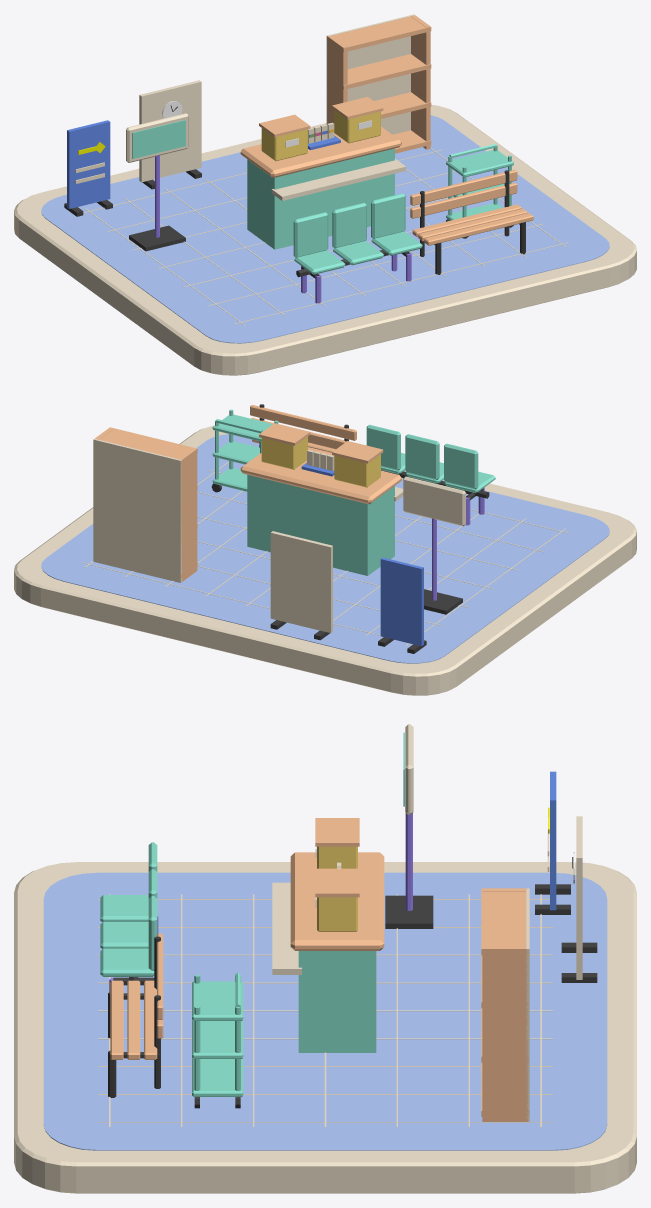
Rendered from room.fbx.
3 renders of one model, top to bottom at view 1: azimuth 30°, elevation 25°; view 2: azimuth 150°, elevation 25°; view 3: azimuth 270°, elevation 25°, orthographic. The views are drawn at different scales.
Visible parts, largest first — view 1: COM-02 Floor Surface, COM-01 Rounded Base Direct, Counter body, Panel.001, Panel, Back.003, Countertop, Side.001, Visitor shelf, Shelf.003, Shelf.002, Inset (+20 smaller); view 2: COM-02 Floor Surface, COM-01 Rounded Base Direct, Back.003, Counter body, Panel.001, Panel, Countertop, Sign panel, Side, Back, Back.001, Shelf.003 (+11 smaller); view 3: COM-02 Floor Surface, COM-01 Rounded Base Direct, Counter body, Side.001, Countertop, Shelf.003, Visitor shelf, Tray.002, Tray, Tray.001, Foot, Seat.002 (+14 smaller).
Boxes of the visible parts, x1,y1,x2,y2 form: COM-02 Floor Surface: (41,115,609,343); COM-01 Rounded Base Direct: (14,104,636,375); Counter body: (247,148,394,249); Panel.001: (139,80,201,182); Panel: (67,120,110,208); Back.003: (326,14,414,134); Countertop: (240,126,401,177); Side.001: (411,15,430,149); Visitor shelf: (271,159,406,200); Shelf.003: (327,16,431,52); Shelf.002: (329,54,431,89); Inset: (132,120,185,158); COM-02 Floor Surface: (41,434,609,663); COM-01 Rounded Base Direct: (14,425,636,695); Back.003: (93,438,181,582); Counter body: (247,474,394,575); Panel.001: (270,531,332,633); Panel: (380,557,423,646); Countertop: (240,453,401,504); Sign panel: (403,476,465,526); Side: (178,447,197,581); Back: (444,443,478,489); Back.001: (405,434,439,479); Shelf.003: (99,427,197,463); COM-02 Floor Surface: (43,872,607,1150); COM-01 Rounded Base Direct: (14,862,636,1193); Counter body: (298,951,376,1052); Side.001: (482,946,527,1121); Countertop: (290,852,384,950); Shelf.003: (481,888,529,955); Visitor shelf: (272,882,301,974); Tray.002: (192,981,243,1020); Tray: (192,1058,243,1096); Tray.001: (192,1020,243,1058); Foot: (385,895,433,928); Seat.002: (100,948,154,976).
Size of the model in its own units: 600 by 190 by 520.
